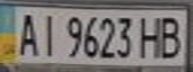2: (97, 13, 118, 60)
3: (115, 13, 139, 60)
6: (81, 12, 100, 60)
9: (60, 12, 84, 59)
A: (12, 9, 42, 57)
B: (157, 12, 187, 59)
H: (136, 12, 166, 60)
I: (36, 10, 60, 57)
